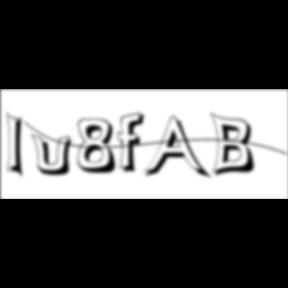8: (78, 117, 122, 176)
A: (144, 116, 212, 182)
B: (210, 111, 260, 179)
I: (7, 110, 31, 182)
f: (118, 111, 150, 175)
u: (31, 132, 79, 178)
